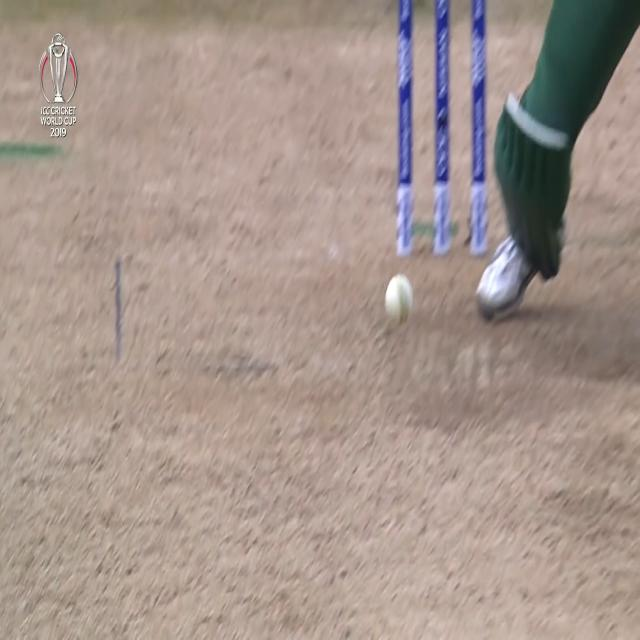Cricket ball: (385, 274, 414, 326)
